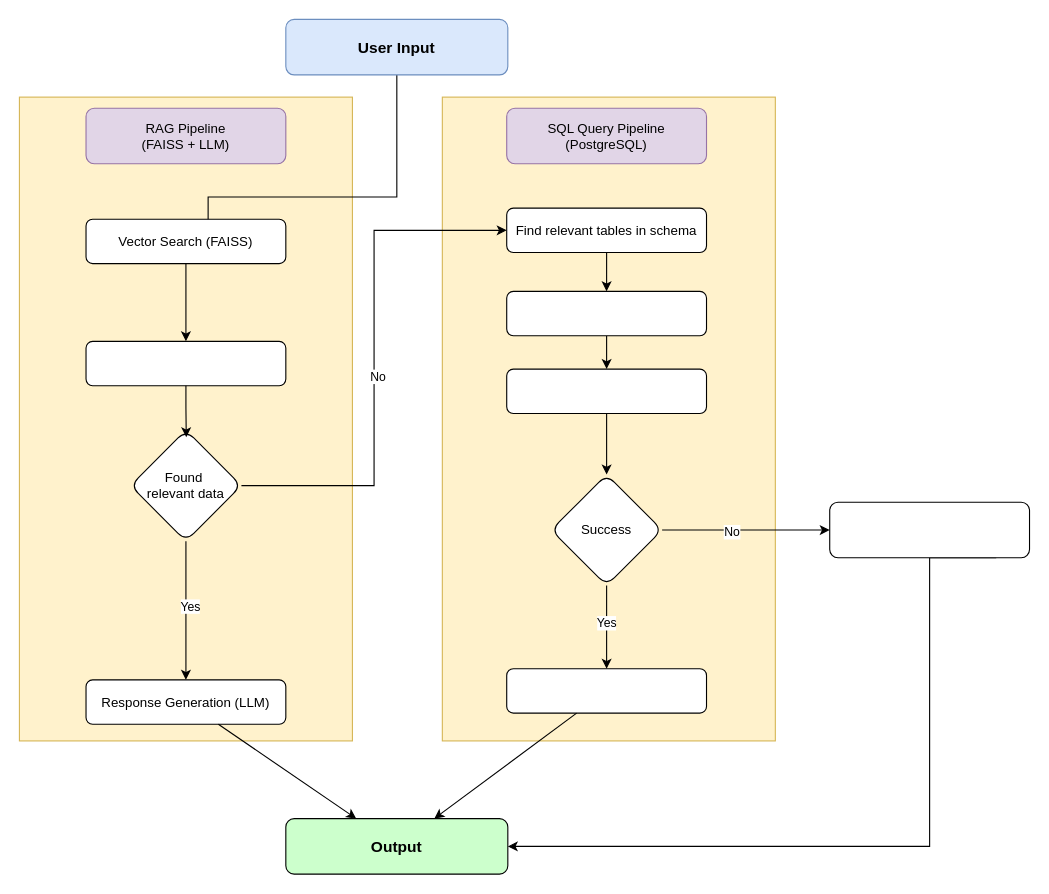
Image size: 1049x894. Some labels were removed from this diagram. Here are the shapes that lost their labels. From the top down, the centre of each, then its label:
At (x=606, y=313): "SQL Generation (LLM)".
At (x=185, y=363): "Context Filtering (Threshold)".
At (x=606, y=390): "SQL Execution (PostgreSQL)".
At (x=929, y=529): "Fallback Response".
At (x=606, y=690): "Result Formatting".
